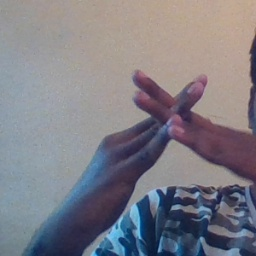W: (108, 61, 241, 185)
